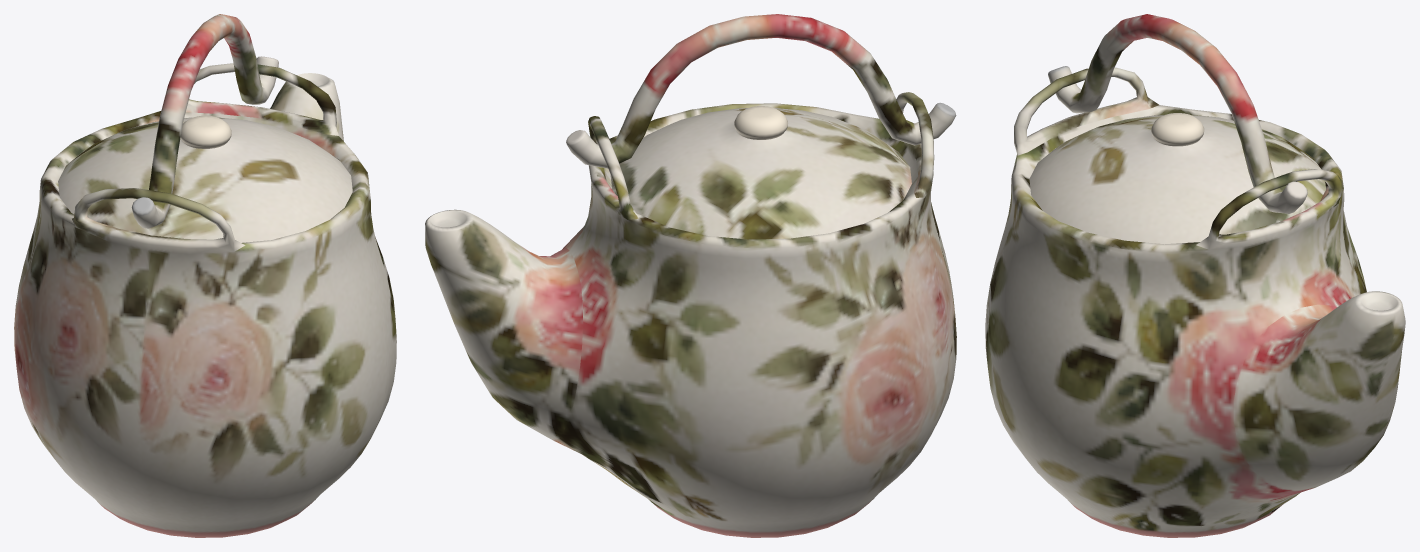
Rendered from ceramic_teapot.fbx.
The picture shows the model from 3 angles, left to right: view 1: azimuth 30°, elevation 25°; view 2: azimuth 150°, elevation 25°; view 3: azimuth 270°, elevation 25°; orthographic projection. The views are drawn at different scales.
Parts seen in each view (by area): view 1: ceramic_teapot; view 2: ceramic_teapot; view 3: ceramic_teapot.
Part boxes in pixels (x1,y1,x2,y2): ceramic_teapot: [14, 14, 396, 537]; ceramic_teapot: [425, 14, 956, 537]; ceramic_teapot: [985, 14, 1405, 537].
Size of the model in its own units: 20.3 by 23.51 by 18.69.
